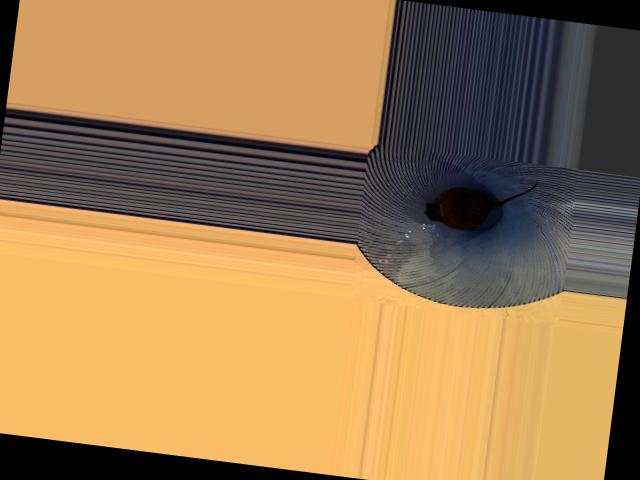beet: (422, 169, 537, 237)
